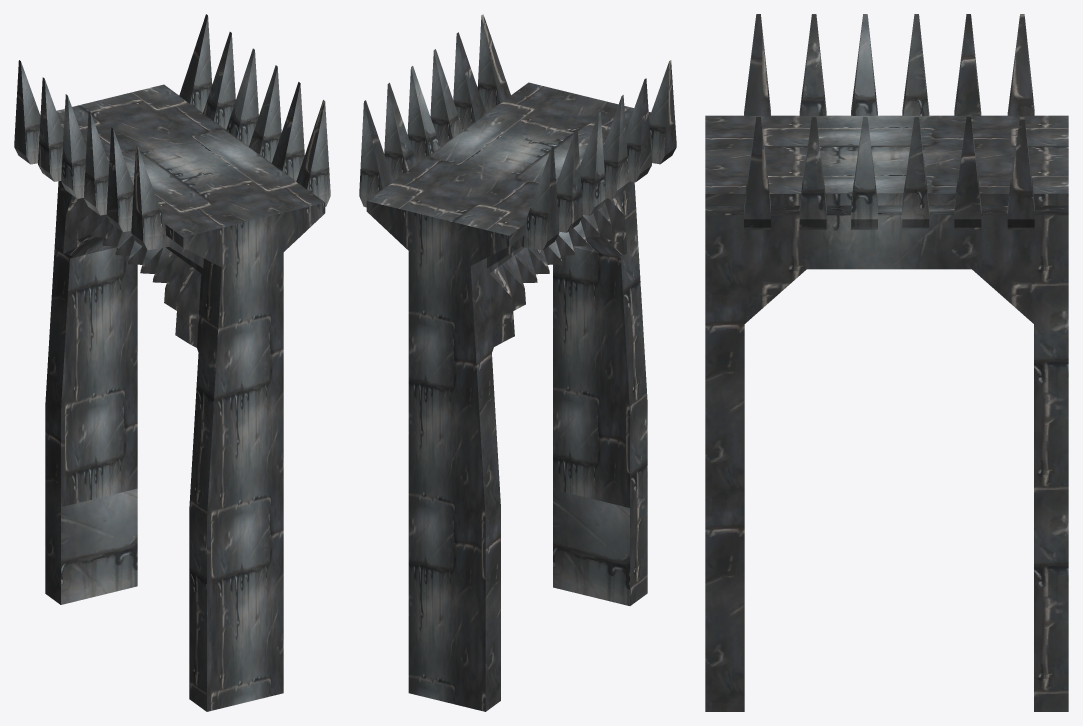
Rendered from InGate.fbx.
3 views of the same model, side by side, from view 1: azimuth 30°, elevation 25°; view 2: azimuth 150°, elevation 25°; view 3: azimuth 270°, elevation 25° (orthographic). The views are drawn at different scales.
Parts seen in each view (by area): view 1: icecrown_walk_06; view 2: icecrown_walk_06; view 3: icecrown_walk_06.
Part boxes in pixels (left/top/right/bottom): icecrown_walk_06: left=14, top=14, right=330, bottom=711; icecrown_walk_06: left=359, top=14, right=676, bottom=711; icecrown_walk_06: left=705, top=14, right=1068, bottom=711.
Size of the model in its own units: 5426 by 15501 by 8101.
